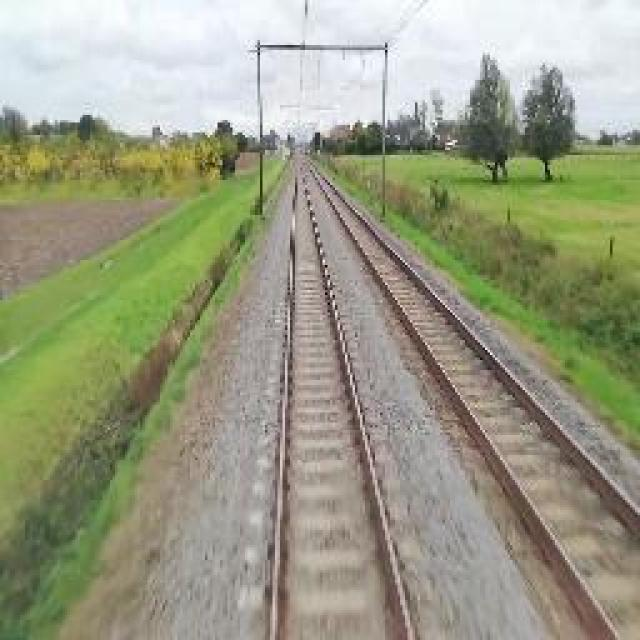rail: (224, 153, 469, 640)
